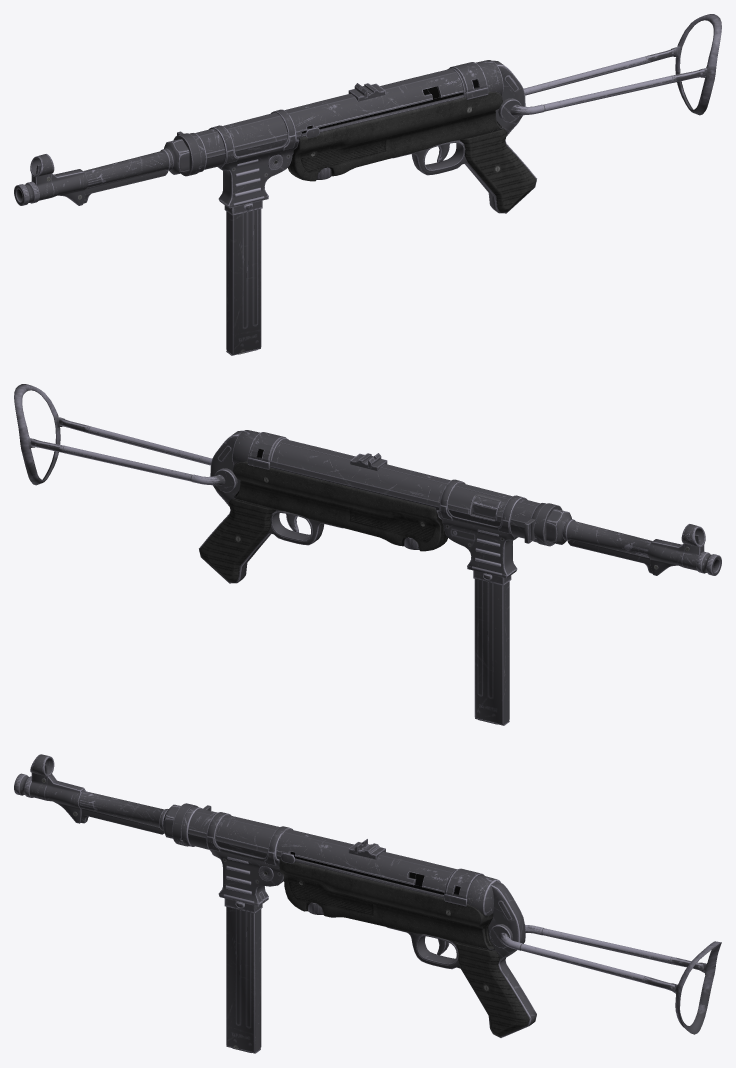
The picture shows the model from 3 angles, top to bottom: view 1: azimuth 30°, elevation 25°; view 2: azimuth 150°, elevation 25°; view 3: azimuth 330°, elevation 25°; orthographic projection.
Parts seen in each view (by area): view 1: MP40, defaultMaterial; view 2: MP40, defaultMaterial; view 3: MP40, defaultMaterial.
Boxes of the visible parts, <box> form: MP40: <box>14,14,721,355</box>; defaultMaterial: <box>449,62,487,92</box>; MP40: <box>14,384,721,725</box>; defaultMaterial: <box>248,432,286,462</box>; MP40: <box>14,754,721,1053</box>; defaultMaterial: <box>446,868,484,898</box>.
Size of the model in its own units: 1.02 by 0.3402 by 0.0877.
1 material, 1 textured.
